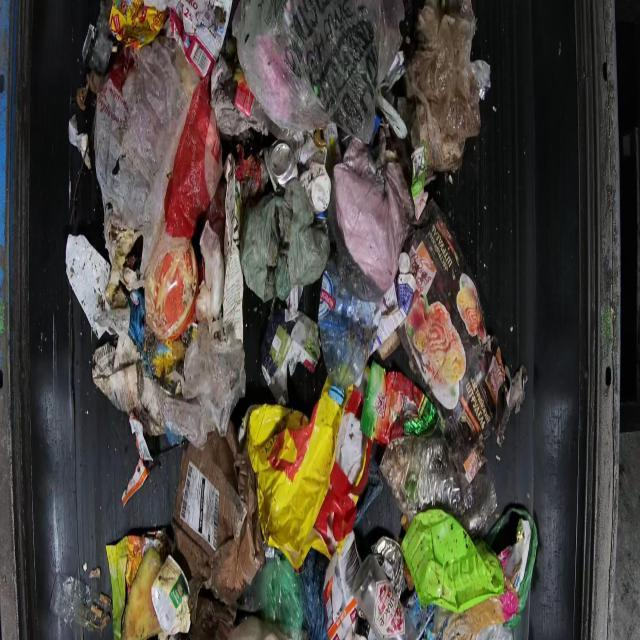organic-waste: (64, 0, 537, 638)
